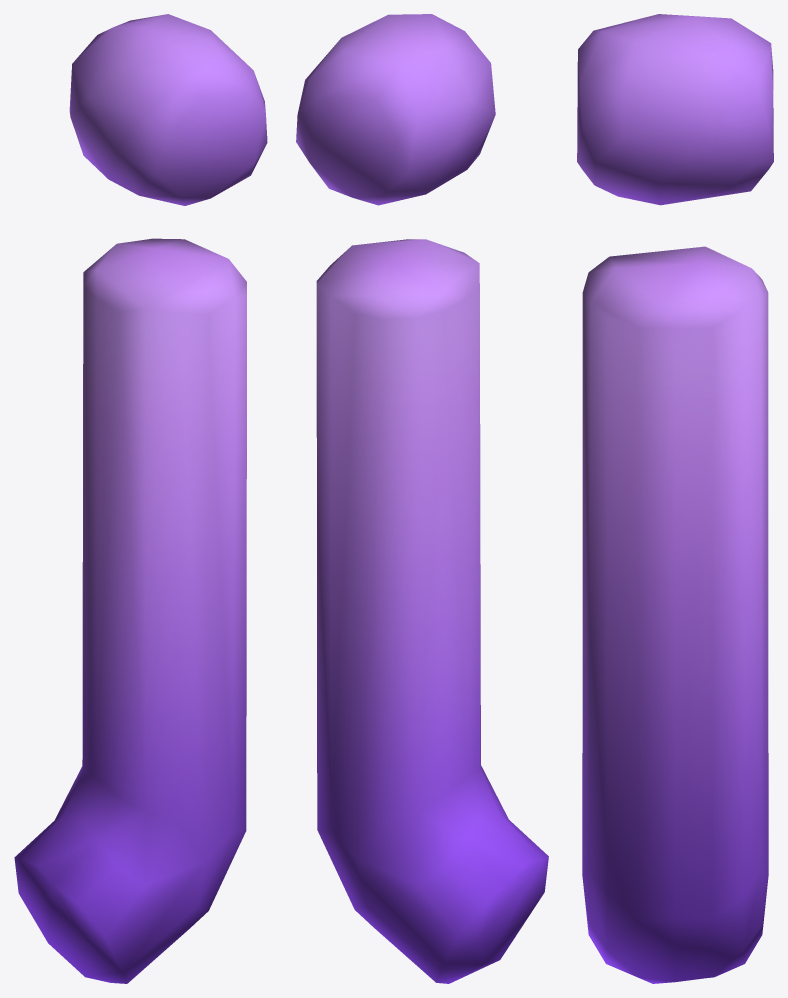
3 renders of one model, left to right at view 1: azimuth 30°, elevation 25°; view 2: azimuth 150°, elevation 25°; view 3: azimuth 270°, elevation 25°, orthographic. The views are drawn at different scales.
Parts seen in each view (by area): view 1: Processed_Mesh0_Geometry; view 2: Processed_Mesh0_Geometry; view 3: Processed_Mesh0_Geometry.
Boxes of the visible parts, left/top/right/bottom form: Processed_Mesh0_Geometry: left=14, top=14, right=267, bottom=983; Processed_Mesh0_Geometry: left=296, top=14, right=548, bottom=983; Processed_Mesh0_Geometry: left=577, top=14, right=773, bottom=983.
Size of what is drawn, in the model's own units: 0.0255 by 0.108 by 0.0193.
1 material, 1 textured.
